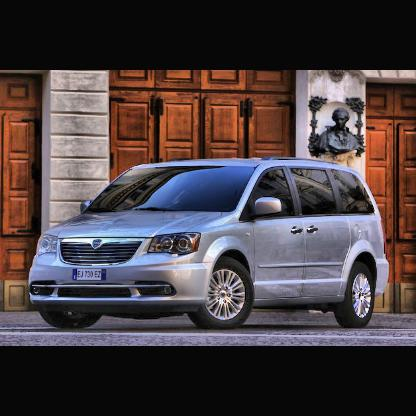Chrysler Town and Country Minivan 2012: (28, 155, 390, 333)
